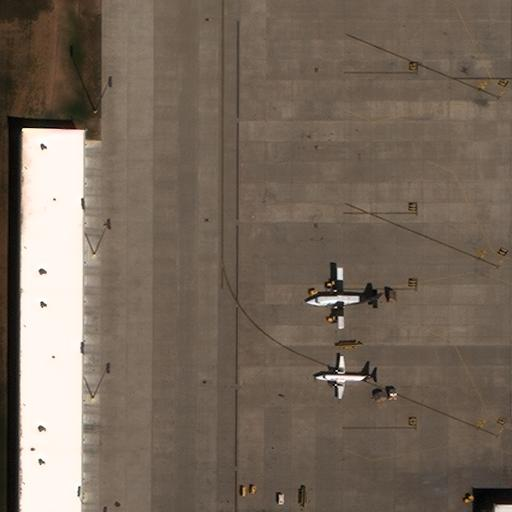Medium Civil Transport: (305, 267, 380, 329), (314, 356, 376, 398)
